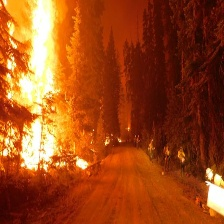fire: (1, 2, 60, 172), (71, 154, 92, 172), (102, 134, 125, 144)
